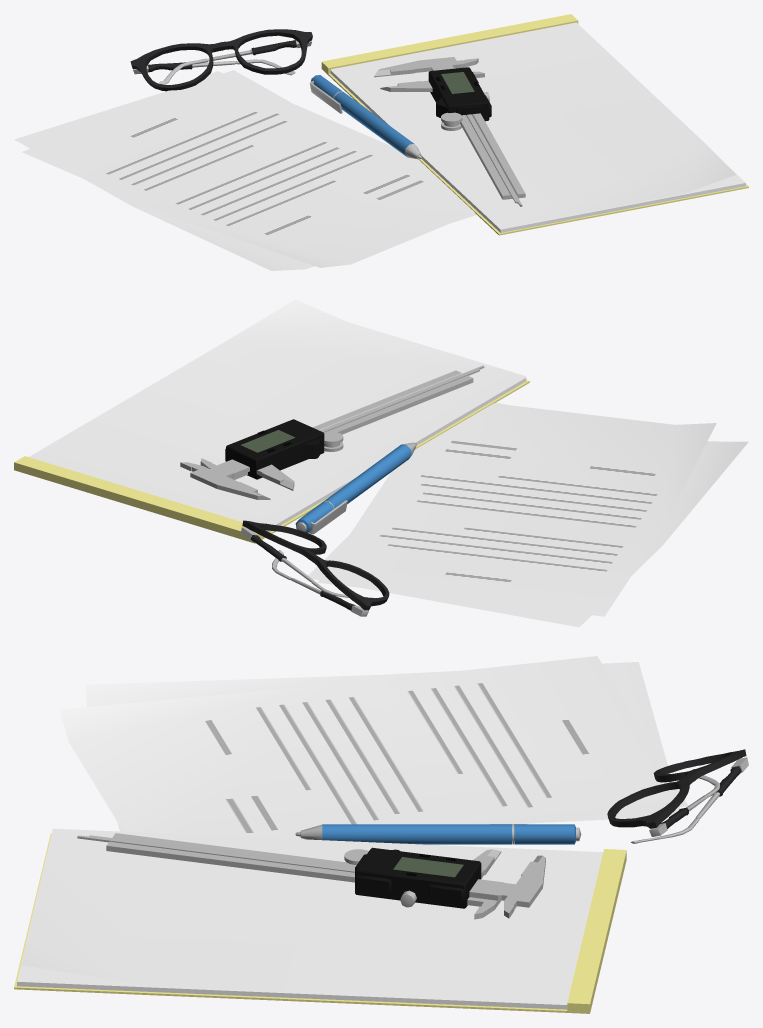
Rendered from expertise-processed.glb.
3 views of the same model, one above another, from view 1: azimuth 30°, elevation 25°; view 2: azimuth 150°, elevation 25°; view 3: azimuth 270°, elevation 25° (orthographic). The views are drawn at different scales.
Parts seen in each view (by area): view 1: object_1; view 2: object_1; view 3: object_1.
Boxes of the visible parts, box(x1,y1,x2,y2) form: object_1: box(14, 14, 748, 270); object_1: box(14, 299, 748, 627); object_1: box(14, 656, 748, 1013).
Size of the model in its own units: 0.4837 by 0.0288 by 0.4206.
Materials: 1 (1 with a texture image).
